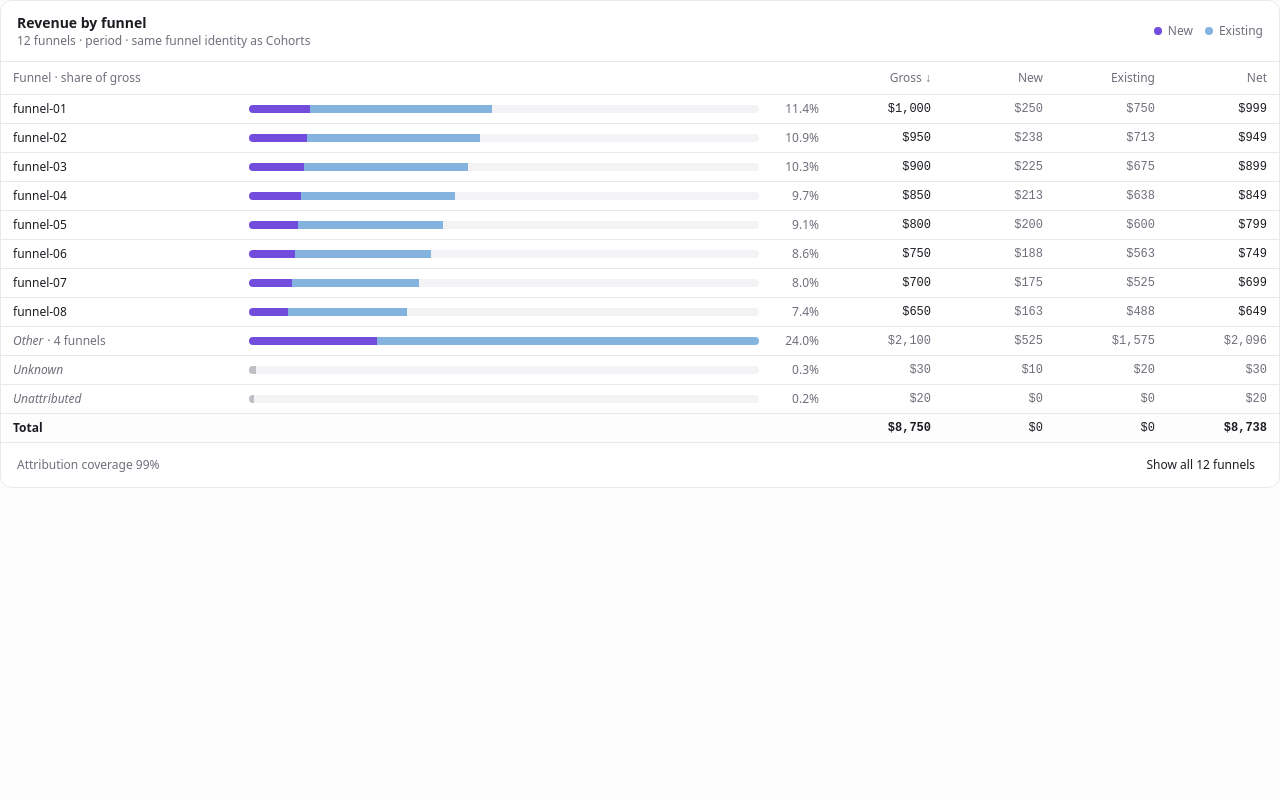
RevenueByFunnelCard › renders the folded list with totals and expands on demand
Check: the text "12 funnels · period · same funnel identity as Cohorts" is shown, box [17, 33, 310, 49]
Check: the text "funnel-01" is shown, box [13, 100, 67, 116]
Click the button "Show all 12 funnels". click: point(1201, 464)
box: [1138, 450, 1263, 478]
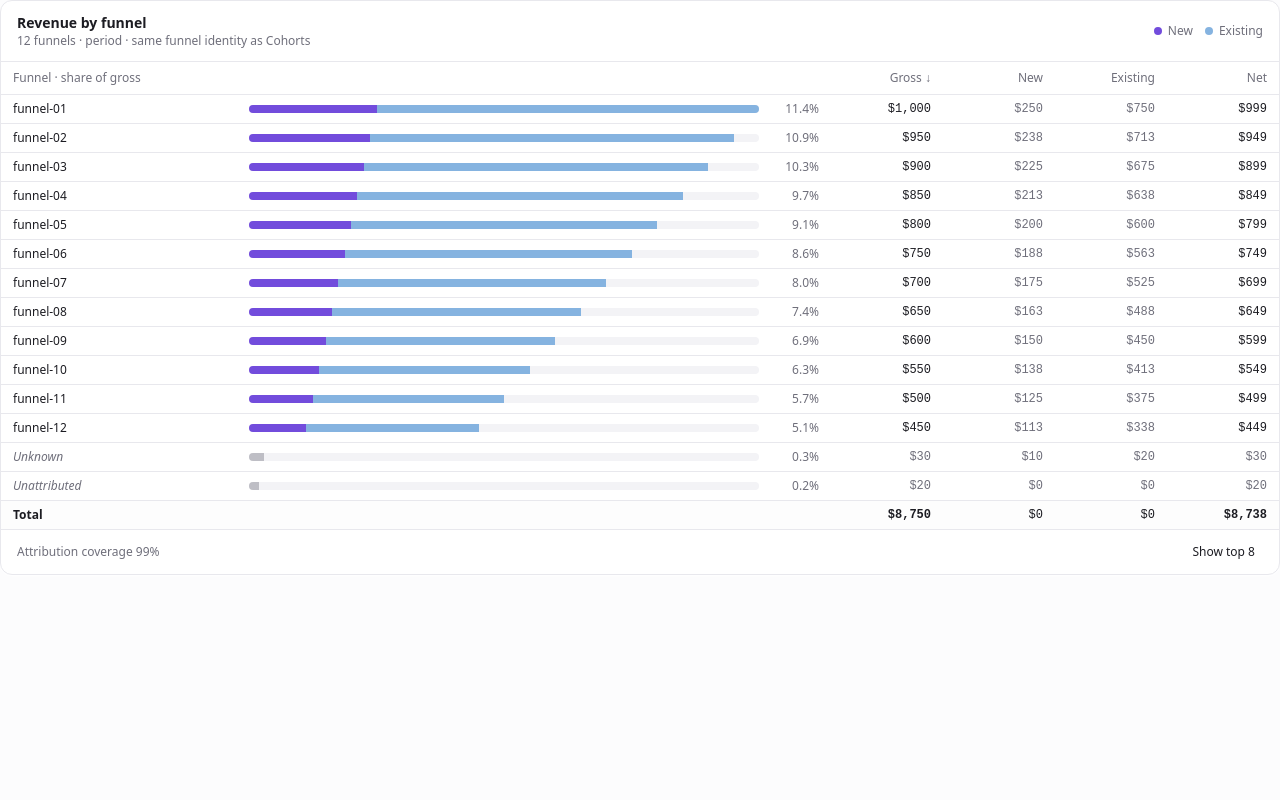
Check: the text "funnel-12" is shown, box [13, 418, 67, 436]
Click the button "Show top 8". click: point(1224, 552)
box: [1184, 538, 1263, 566]
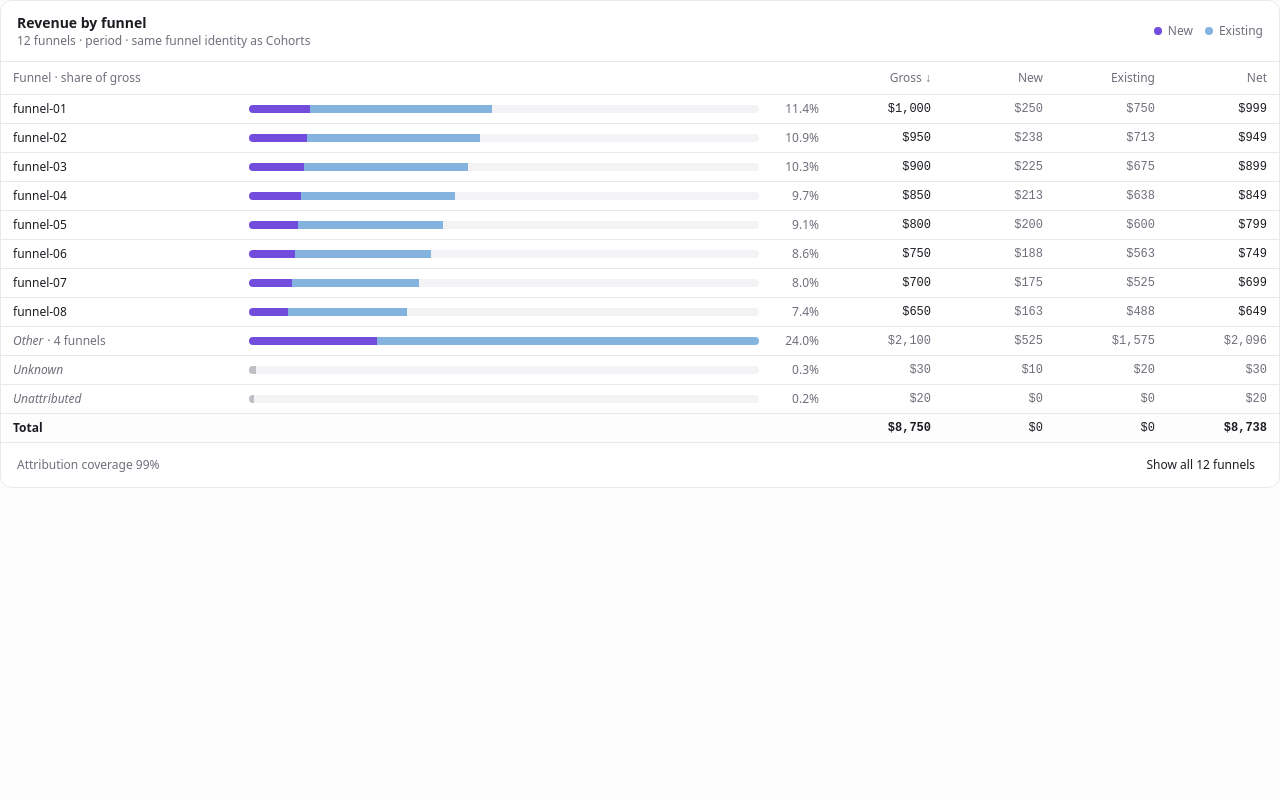
Check: the text "funnel-12" is gone
